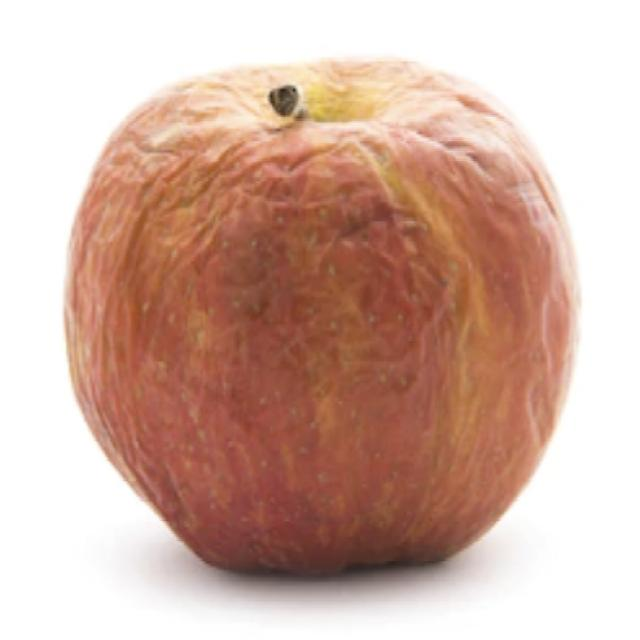rotten_apple: (64, 61, 572, 584)
